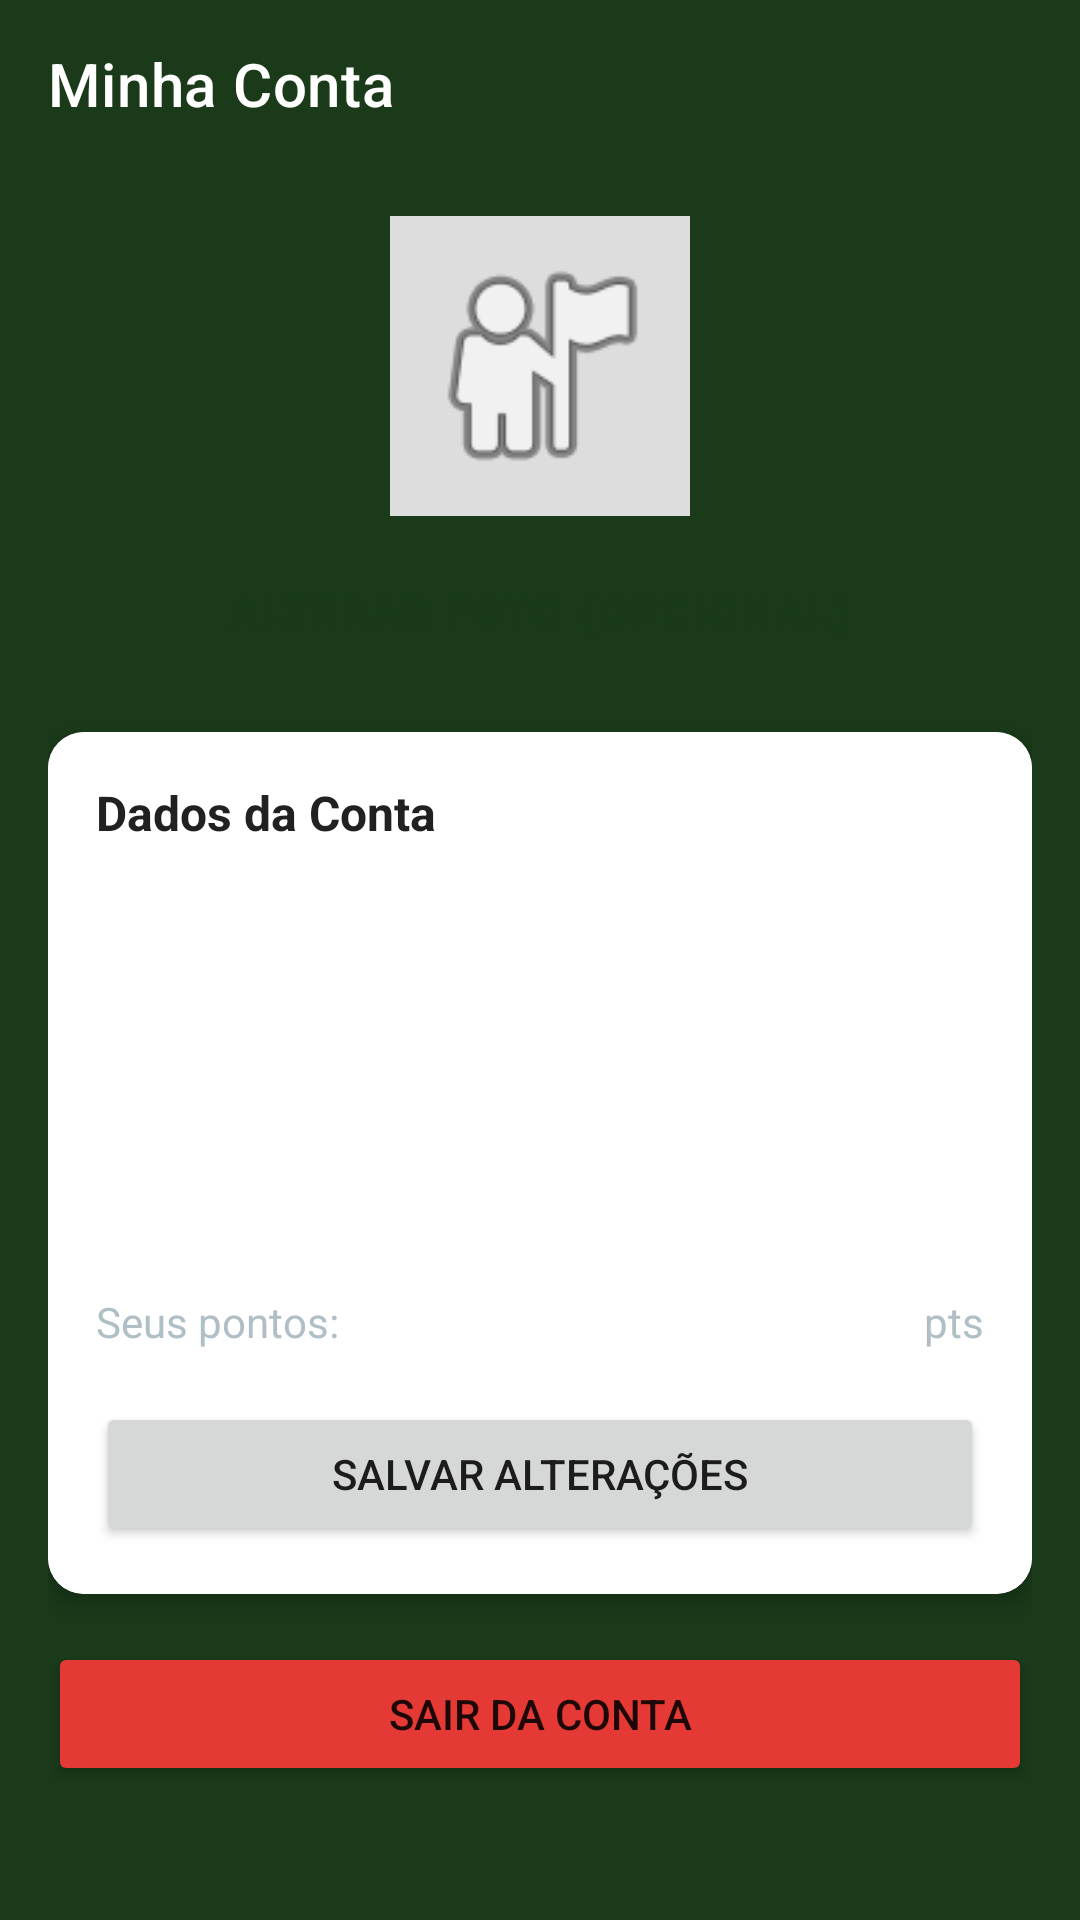

Named icons in this screenshot (1080x1920) and their bounding boxes, (x1, y1, x2, y2):
Foto de perfil: (390, 216, 690, 516)
